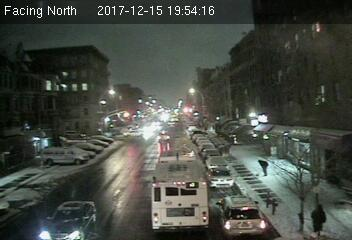bus: (150, 147, 212, 230)
car: (36, 199, 94, 240), (217, 195, 267, 236), (206, 166, 235, 187), (206, 156, 227, 168)
pedestrian: (257, 157, 271, 181)
